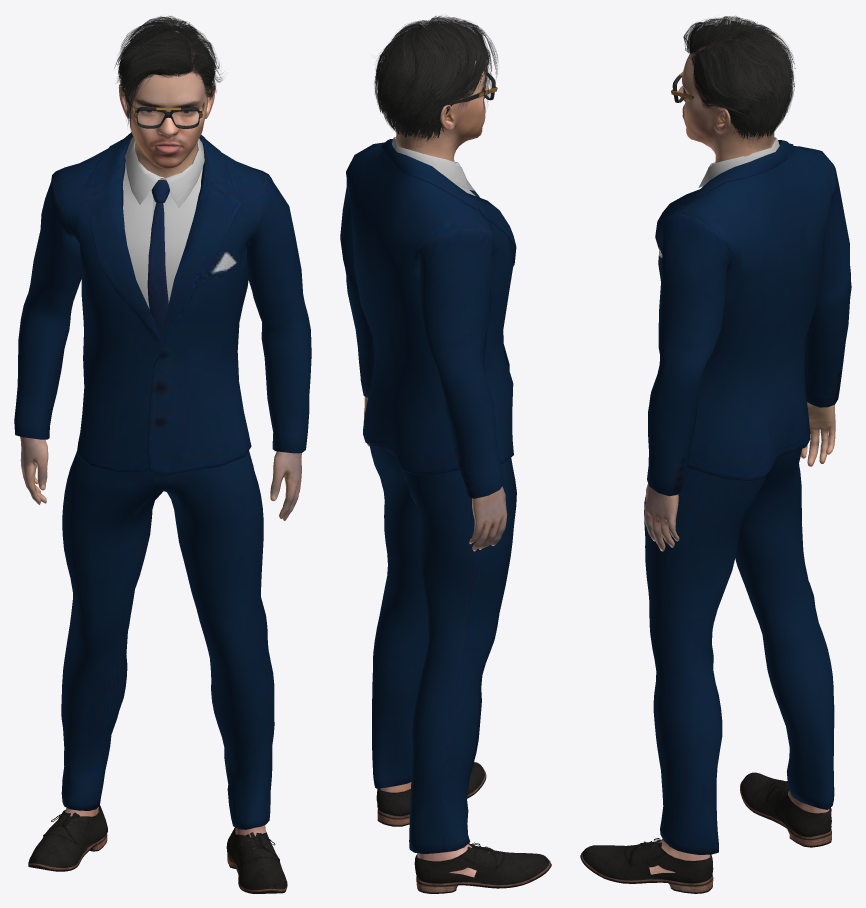
Rendered from player_suit.glb.
3 views of the same model, side by side, from view 1: azimuth 30°, elevation 25°; view 2: azimuth 150°, elevation 25°; view 3: azimuth 270°, elevation 25° (orthographic).
Parts seen in each view (by area): view 1: GLTF_created_0; view 2: GLTF_created_0; view 3: GLTF_created_0.
Boxes of the visible parts, x1,y1,x2,y2 form: GLTF_created_0: (14, 16, 311, 893); GLTF_created_0: (340, 16, 551, 893); GLTF_created_0: (580, 16, 851, 893).
Size of the model in its own units: 0.5322 by 1.78 by 0.5208.
Materials: 13 (12 with a texture image).
